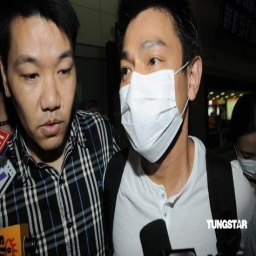correctlyWear: (116, 39, 203, 163)
noWear: (1, 39, 78, 152)
